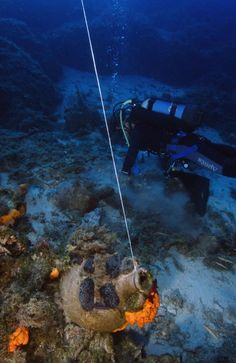amphora: (51, 250, 154, 334)
